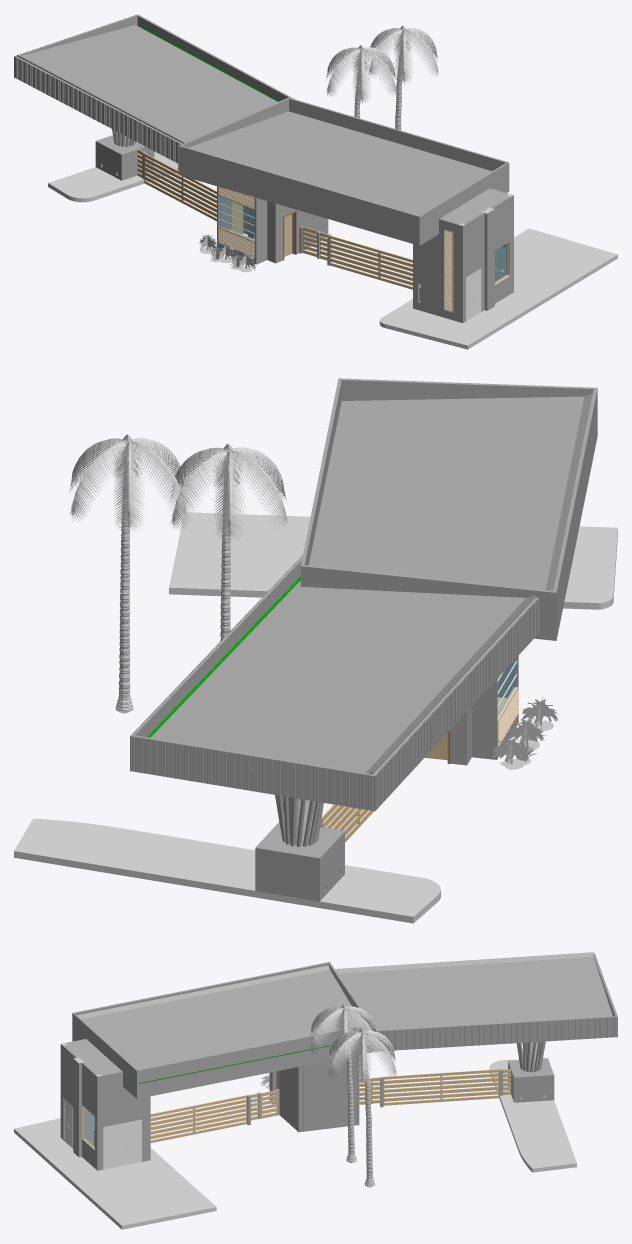
File: port.glb
3 renders of one model, top to bottom at view 1: azimuth 30°, elevation 25°; view 2: azimuth 150°, elevation 25°; view 3: azimuth 270°, elevation 25°, orthographic. The views are drawn at different scales.
Visible parts, largest first — view 1: 1XuQD9wNb4ZBApM9h9v3Nx, 1XuQD9wNb4ZBApM9h9v0cC, 2RtQE1CAPQTc1fqzcjYjzL, 1XuQD9wNb4ZBApM9h9v0X$, 1bZyGnhCPC2O2kA1MHh2FF, 1XuQD9wNb4ZBApM9h9v0je, 0AdeTMveP9rA0T5rOO4UVs, 3NG$9p0Fn3sRLCfoOXliuZ, 3NG$9p0Fn3sRLCfoOXliyQ, 1IS3rwZZf3KwmX5WaEy5A5, 3JrzzVIjHBBvoU8v8I$iW$, 224jN5LwrAKAX7lDYmGCQv (+21 smaller); view 2: 1XuQD9wNb4ZBApM9h9v3Nx, 1XuQD9wNb4ZBApM9h9v0cC, 3JrzzVIjHBBvoU8v8I$iW$, 2RtQE1CAPQTc1fqzcjYjzL, 1bZyGnhCPC2O2kA1MHh28V, 3NG$9p0Fn3sRLCfoOXliyQ, 3NG$9p0Fn3sRLCfoOXliuZ, 1bZyGnhCPC2O2kA1MHh2FF, 1XuQD9wNb4ZBApM9h9v0Wz, 1XuQD9wNb4ZBApM9h9v0lb, 3LtyLIWon7CRNV9KgUtr5x, 1XuQD9wNb4ZBApM9h9v0X$ (+10 smaller); view 3: 1XuQD9wNb4ZBApM9h9v0cC, 1XuQD9wNb4ZBApM9h9v3Nx, 2RtQE1CAPQTc1fqzcjYjzL, 1XuQD9wNb4ZBApM9h9v0je, 1bZyGnhCPC2O2kA1MHh29w, 3JrzzVIjHBBvoU8v8I$iW$, 3LtyLIWon7CRNV9KgUtr5x, 224jN5LwrAKAX7lDYmGCQv, 0AdeTMveP9rA0T5rOO4VkL, 3NG$9p0Fn3sRLCfoOXliyQ, 1IS3rwZZf3KwmX5WaEy5A5, 3NG$9p0Fn3sRLCfoOXliuZ (+17 smaller).
Part boxes in pixels (box(x1,y1,x2,y2)): 1XuQD9wNb4ZBApM9h9v3Nx: box(189, 111, 491, 215); 1XuQD9wNb4ZBApM9h9v0cC: box(19, 25, 277, 143); 2RtQE1CAPQTc1fqzcjYjzL: box(379, 228, 617, 349); 1XuQD9wNb4ZBApM9h9v0X$: box(180, 145, 420, 245); 1bZyGnhCPC2O2kA1MHh2FF: box(14, 56, 181, 163); 1XuQD9wNb4ZBApM9h9v0je: box(289, 98, 506, 170); 0AdeTMveP9rA0T5rOO4UVs: box(417, 218, 459, 321); 3NG$9p0Fn3sRLCfoOXliuZ: box(326, 45, 396, 118); 3NG$9p0Fn3sRLCfoOXliyQ: box(368, 25, 438, 130); 1IS3rwZZf3KwmX5WaEy5A5: box(329, 235, 412, 289); 3JrzzVIjHBBvoU8v8I$iW$: box(48, 151, 178, 202); 224jN5LwrAKAX7lDYmGCQv: box(144, 153, 216, 221); 1XuQD9wNb4ZBApM9h9v3Nx: box(309, 396, 584, 590); 1XuQD9wNb4ZBApM9h9v0cC: box(150, 581, 534, 774); 3JrzzVIjHBBvoU8v8I$iW$: box(14, 818, 440, 923); 2RtQE1CAPQTc1fqzcjYjzL: box(169, 512, 617, 609); 1bZyGnhCPC2O2kA1MHh28V: box(131, 736, 374, 810); 3NG$9p0Fn3sRLCfoOXliyQ: box(69, 434, 186, 713); 3NG$9p0Fn3sRLCfoOXliuZ: box(170, 444, 287, 640); 1bZyGnhCPC2O2kA1MHh2FF: box(374, 597, 539, 811); 1XuQD9wNb4ZBApM9h9v0Wz: box(300, 564, 556, 640); 1XuQD9wNb4ZBApM9h9v0lb: box(338, 378, 593, 400); 3LtyLIWon7CRNV9KgUtr5x: box(132, 557, 302, 737); 1XuQD9wNb4ZBApM9h9v0X$: box(553, 387, 597, 637); 1XuQD9wNb4ZBApM9h9v0cC: box(338, 956, 612, 1030); 1XuQD9wNb4ZBApM9h9v3Nx: box(82, 970, 362, 1069); 2RtQE1CAPQTc1fqzcjYjzL: box(14, 1118, 216, 1229); 1XuQD9wNb4ZBApM9h9v0je: box(138, 1024, 370, 1098); 1bZyGnhCPC2O2kA1MHh29w: box(350, 1016, 617, 1052); 3JrzzVIjHBBvoU8v8I$iW$: box(489, 1059, 576, 1172); 3LtyLIWon7CRNV9KgUtr5x: box(351, 1016, 615, 1052); 224jN5LwrAKAX7lDYmGCQv: box(383, 1069, 499, 1105); 0AdeTMveP9rA0T5rOO4VkL: box(303, 1056, 353, 1131); 3NG$9p0Fn3sRLCfoOXliyQ: box(328, 1028, 396, 1187); 1IS3rwZZf3KwmX5WaEy5A5: box(150, 1095, 247, 1142); 3NG$9p0Fn3sRLCfoOXliuZ: box(310, 1004, 377, 1162).
Size of the model in its own units: 18.82 by 8.02 by 28.31.
